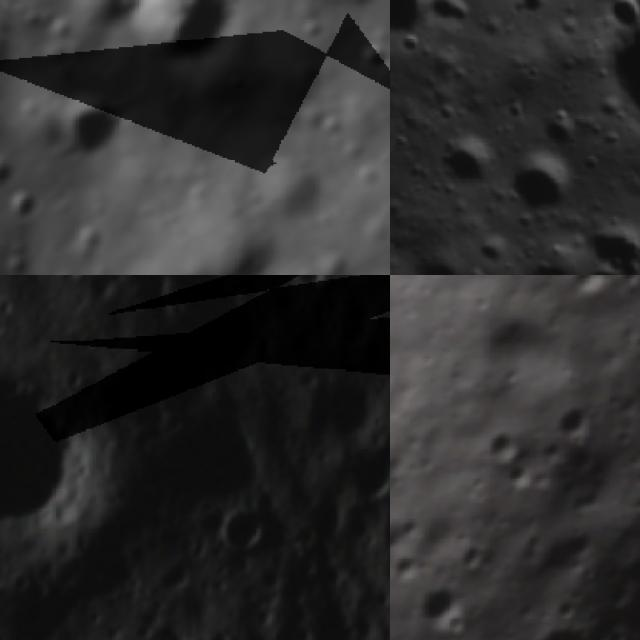crater: (0, 368, 108, 557), (565, 0, 640, 174), (114, 0, 249, 84), (42, 84, 139, 172), (500, 143, 583, 225), (428, 131, 498, 197), (581, 201, 640, 275), (511, 227, 599, 275), (410, 572, 474, 638), (311, 382, 382, 440), (390, 0, 450, 61), (602, 548, 640, 640), (473, 414, 528, 472), (497, 0, 636, 20), (552, 512, 602, 566), (548, 392, 600, 443), (0, 181, 46, 235), (345, 446, 390, 501), (523, 613, 600, 640), (498, 452, 544, 496), (222, 508, 265, 554), (352, 35, 390, 81), (308, 498, 344, 540), (160, 559, 196, 598), (453, 535, 488, 574), (564, 275, 615, 300), (0, 150, 19, 199), (303, 297, 335, 323), (625, 449, 640, 496), (273, 623, 314, 640), (626, 517, 640, 562), (601, 619, 629, 640), (320, 562, 341, 588), (294, 275, 331, 287), (0, 290, 14, 319), (613, 275, 640, 290), (135, 618, 155, 638), (382, 289, 390, 326), (211, 633, 235, 640), (192, 631, 209, 640)
